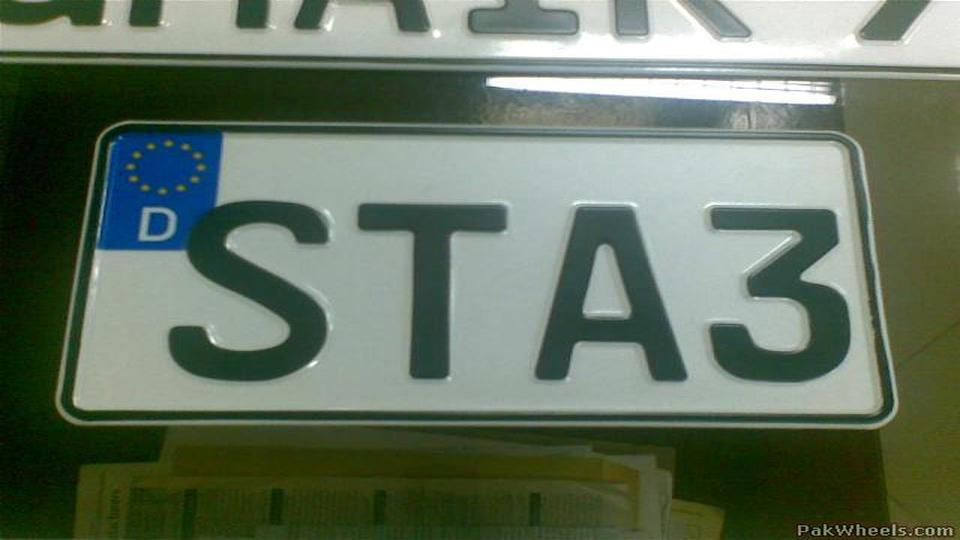NumberPlate: (98, 118, 888, 414)
